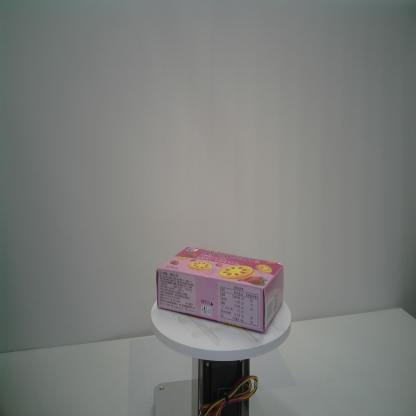Dessert: (154, 245, 286, 335)
